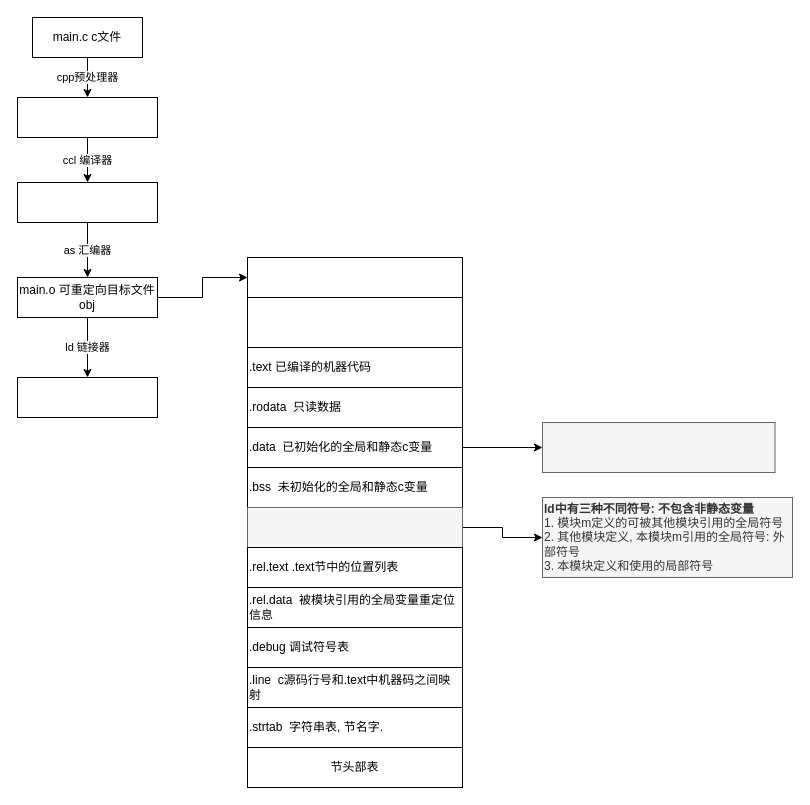
Some shapes in this 810 by 805 pixel diagram are drawn without their labels. Each missing label, with the box of its shape:
.symtab 符号表: 函数和全局变量信息: (246, 506, 462, 548)
1. 定义成static的本地过程变量: (542, 422, 775, 472)
ELF头: word大小, 字节顺序, 帮助ld语法分析和解释目标文件的信息: 头大小, 类型, 机器类型...: (246, 296, 462, 348)
main 可执行目标文件: (16, 376, 158, 418)
main.i ascii的中间文件: (16, 96, 158, 138)
main.s 汇编语言文件: (16, 182, 158, 222)
二进制代码 + 数据 unix中是ELF格式: (246, 256, 462, 298)
